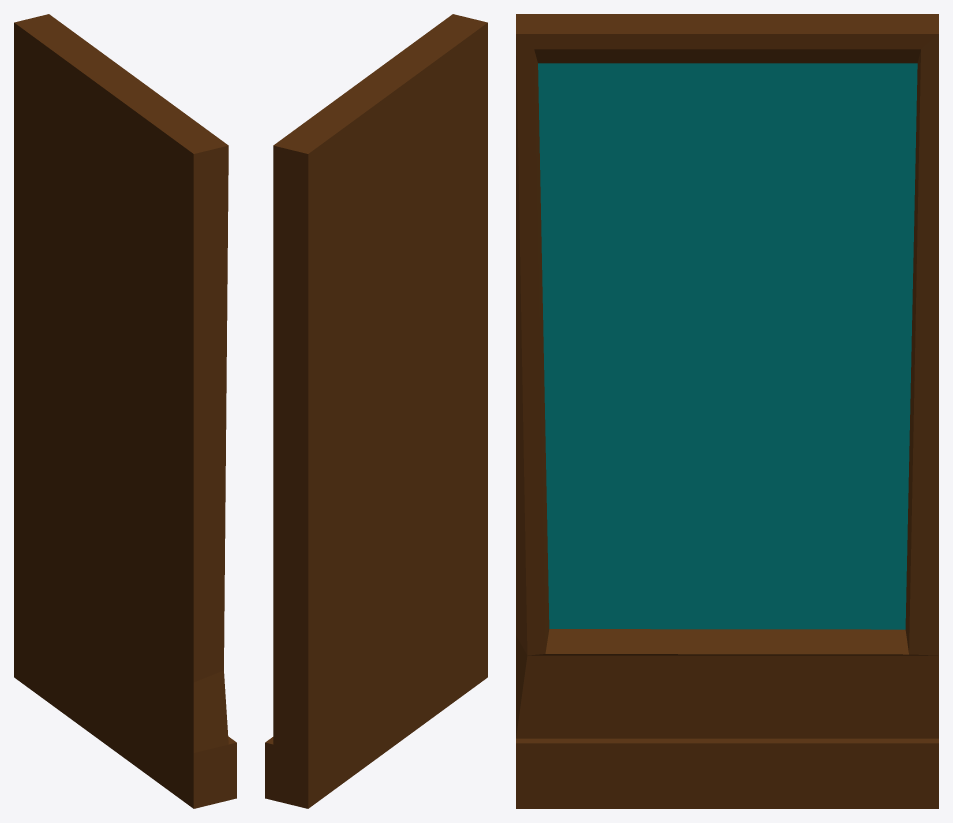
The model's file is BakerWindow2.fbx.
3 views of the same model, side by side, from view 1: azimuth 30°, elevation 25°; view 2: azimuth 150°, elevation 25°; view 3: azimuth 270°, elevation 25° (orthographic). The views are drawn at different scales.
Visible parts, largest first — view 1: Cube.005; view 2: Cube.005; view 3: Cube.005.
Boxes of the visible parts, x1,y1,x2,y2 form: Cube.005: [14, 14, 236, 808]; Cube.005: [265, 14, 487, 808]; Cube.005: [516, 14, 938, 808].
Bounding box in the file's own units: 19.68 × 142 × 286.
